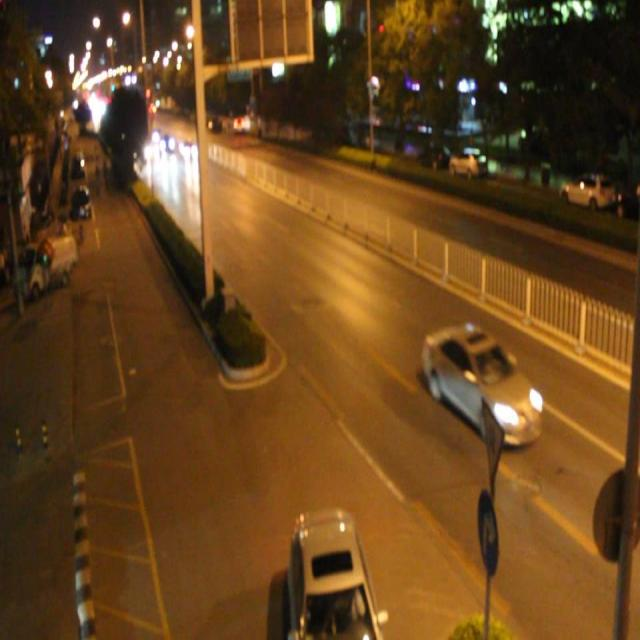car: (423, 322, 542, 444), (286, 507, 383, 640), (178, 138, 198, 161), (159, 134, 174, 152), (233, 114, 246, 132)
